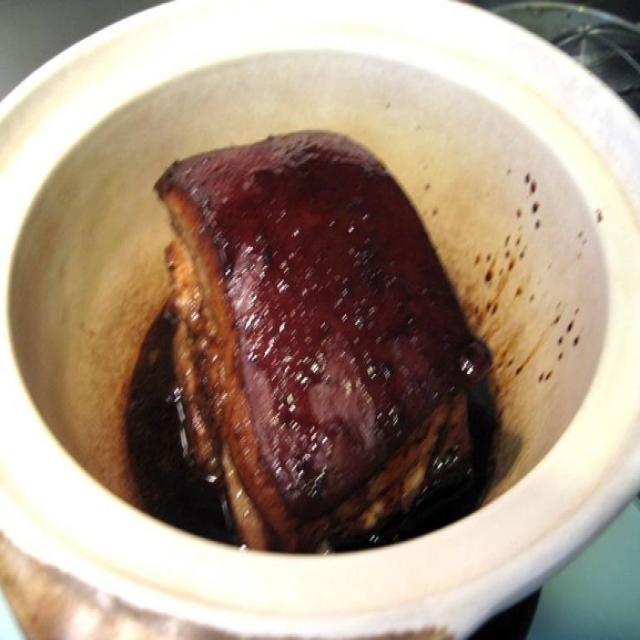牛肉菜式: (50, 28, 601, 591)
